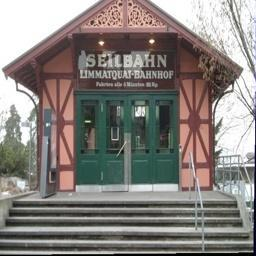building: (3, 1, 237, 194)
